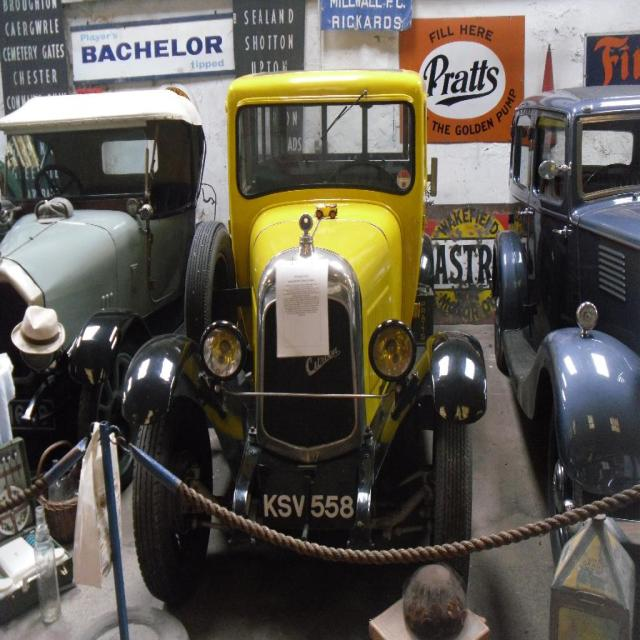car: (114, 64, 489, 614)
